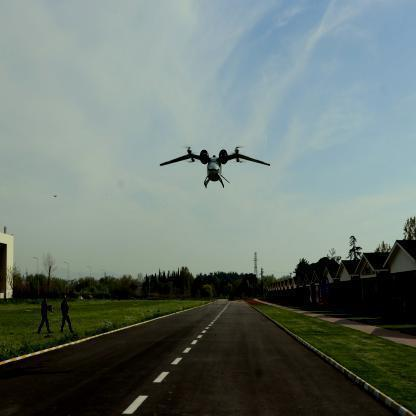aircraft: (160, 146, 271, 189)
